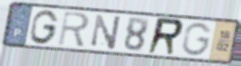8: (123, 16, 150, 53)
G: (181, 22, 214, 58), (29, 9, 61, 46)
N: (90, 13, 123, 51)
R: (145, 16, 186, 57), (57, 10, 92, 49)
